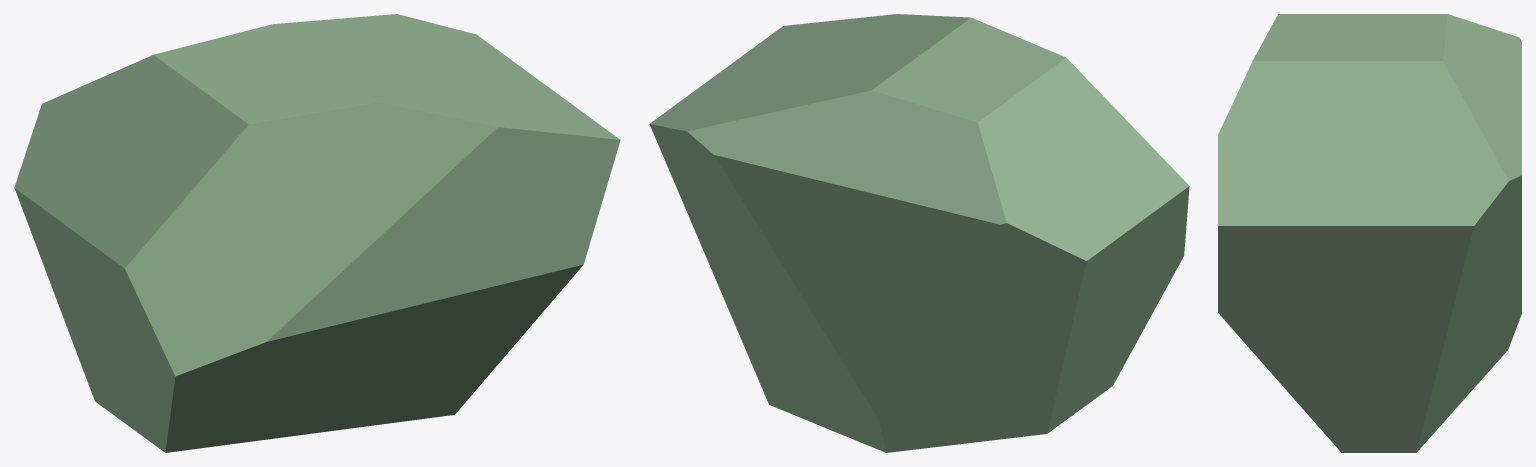
The model's file is convex_rock2.obj.
The picture shows the model from 3 angles, left to right: view 1: azimuth 30°, elevation 25°; view 2: azimuth 150°, elevation 25°; view 3: azimuth 270°, elevation 25°; orthographic projection. The views are drawn at different scales.
Visible parts, largest first — view 1: rock2\Solid; view 2: rock2\Solid; view 3: rock2\Solid.
Part boxes in pixels (x1=…): rock2\Solid: x1=14, y1=14, x2=620, y2=452; rock2\Solid: x1=649, y1=14, x2=1189, y2=452; rock2\Solid: x1=1218, y1=14, x2=1521, y2=452.
Size of the model in its own units: 987 by 768 by 626.
